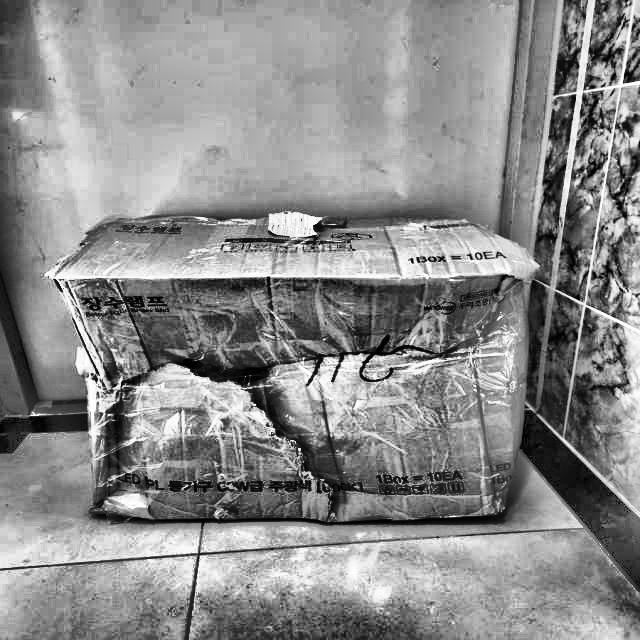box: (36, 196, 570, 551)
hole: (173, 352, 278, 396)
